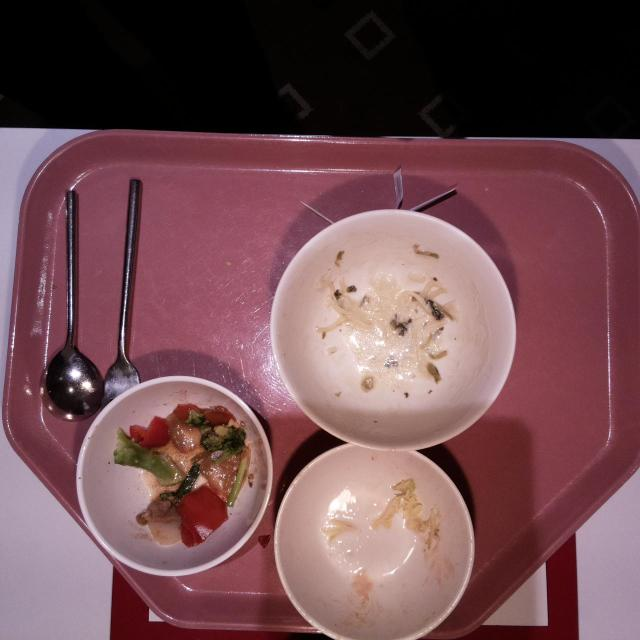Vegetable: (110, 430, 183, 487), (200, 424, 247, 460)
